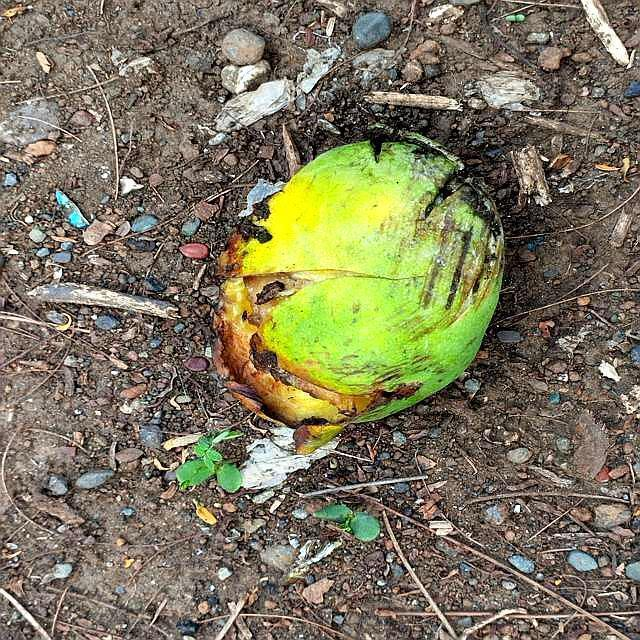Biodegradable: (206, 125, 506, 433)
